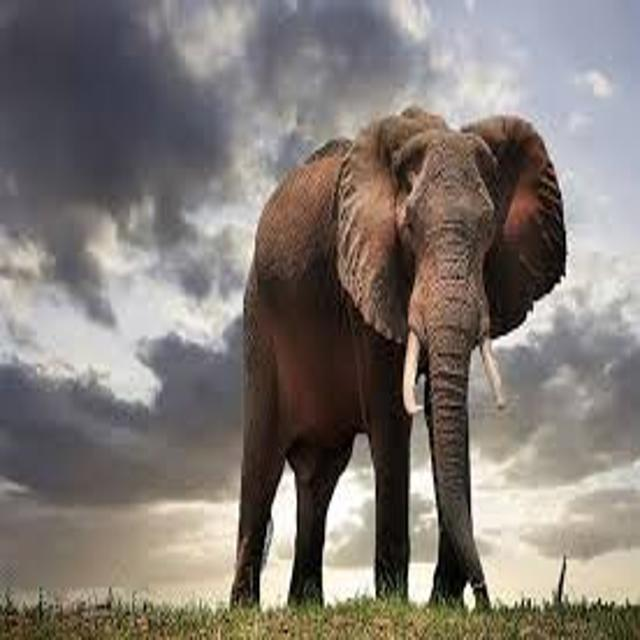Elephant: (203, 63, 590, 638)
